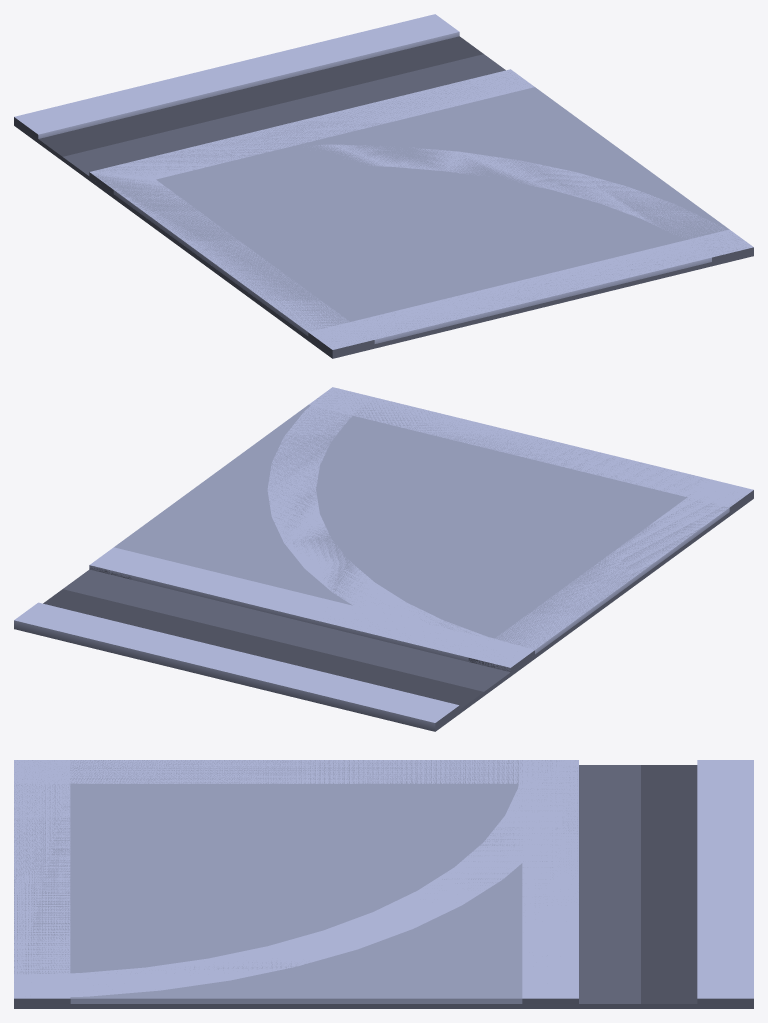
File: roads.glb
The picture shows the model from 3 angles, top to bottom: view 1: azimuth 30°, elevation 25°; view 2: azimuth 150°, elevation 25°; view 3: azimuth 270°, elevation 25°; orthographic projection. The views are drawn at different scales.
Visible parts, largest first — view 1: tile-low, road-side, road-straight, road-end, road-bend, road-intersection; view 2: tile-low, road-side, road-straight, road-end, road-bend, road-intersection, road-crossroad; view 3: tile-low, road-side, road-bend, road-end, road-straight, road-intersection.
Boxes of the visible parts, left/top/right/bottom form: tile-low: left=91, top=69, right=748, bottom=346; road-side: left=14, top=14, right=711, bottom=358; road-straight: left=90, top=70, right=752, bottom=349; road-end: left=91, top=92, right=752, bottom=349; road-bend: left=90, top=144, right=751, bottom=349; road-intersection: left=89, top=70, right=753, bottom=358; tile-low: left=114, top=388, right=741, bottom=649; road-side: left=14, top=490, right=753, bottom=731; road-straight: left=89, top=387, right=750, bottom=671; road-end: left=327, top=388, right=740, bottom=654; road-bend: left=267, top=387, right=751, bottom=667; road-intersection: left=90, top=388, right=753, bottom=671; road-crossroad: left=89, top=388, right=733, bottom=671; tile-low: left=14, top=760, right=577, bottom=1003; road-side: left=14, top=760, right=753, bottom=1008; road-bend: left=14, top=760, right=578, bottom=998; road-end: left=14, top=760, right=577, bottom=987; road-straight: left=14, top=760, right=578, bottom=1003; road-intersection: left=14, top=760, right=578, bottom=1003.
Size of the model in its own units: 1 by 0.02 by 1.31.
Materials: 1 (1 with a texture image).
